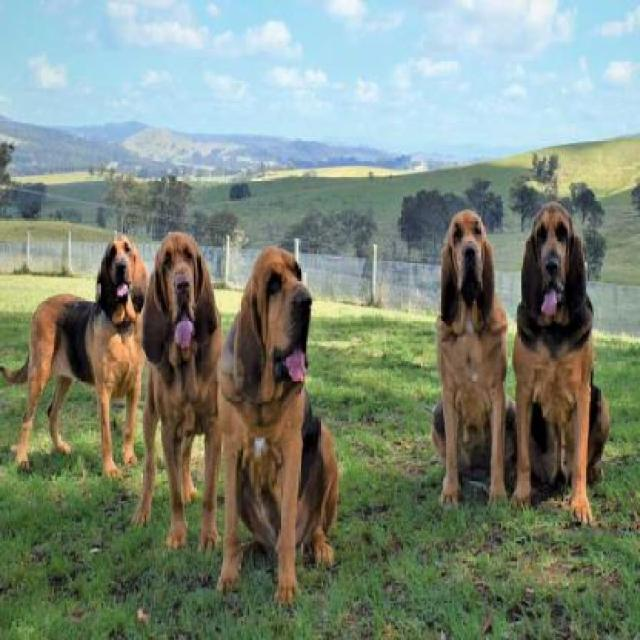animals: (218, 236, 332, 604), (1, 223, 144, 480), (509, 198, 611, 527), (433, 207, 521, 519), (143, 227, 225, 545)
